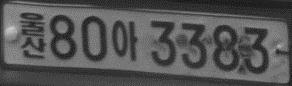0: (80, 15, 107, 61)
3: (180, 22, 207, 69), (244, 26, 269, 74), (150, 20, 175, 66)
8: (49, 13, 77, 60), (211, 24, 239, 70)
아: (110, 19, 138, 61)
울산_V: (18, 11, 46, 59)
